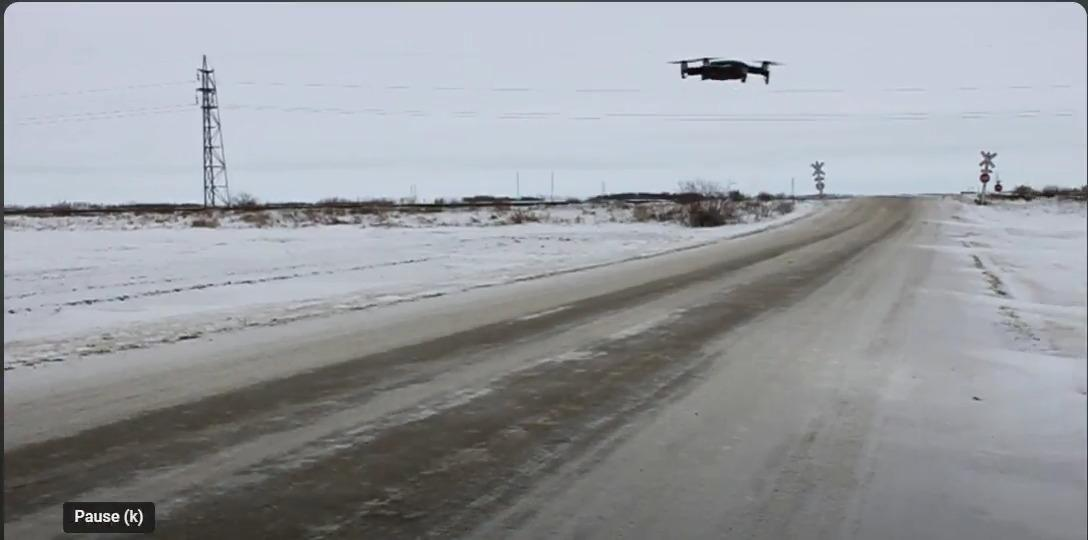dr: (672, 36, 800, 108)
